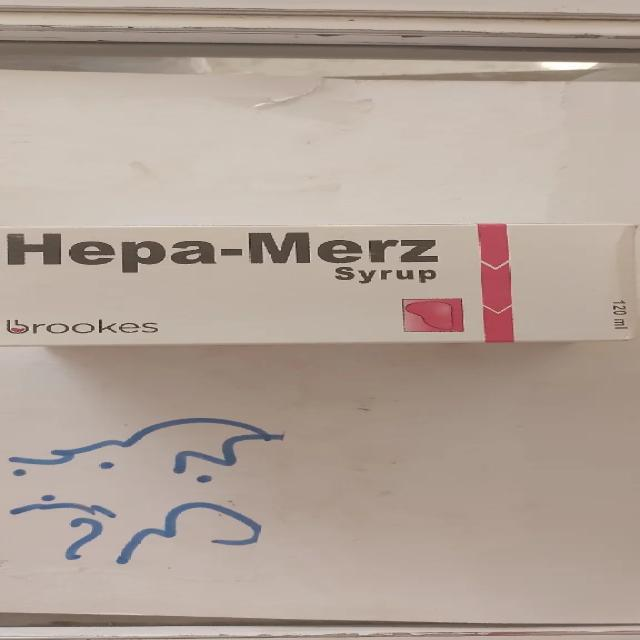drug-name: (3, 230, 446, 266)
